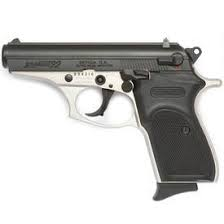gun: (1, 37, 224, 207)
